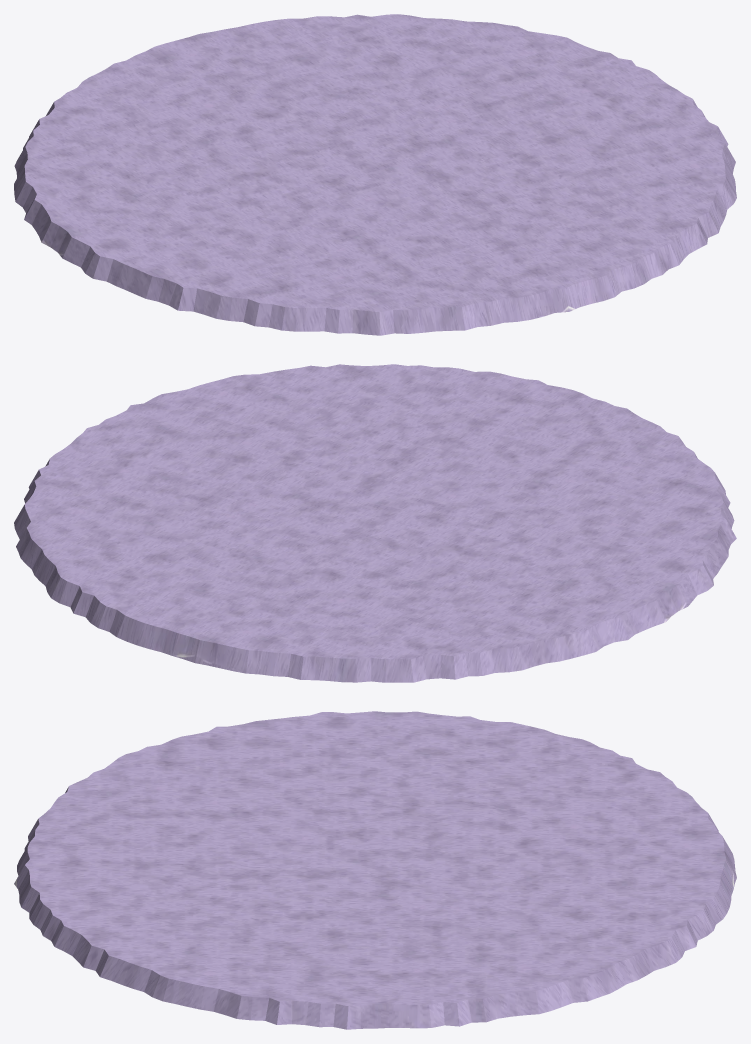
File: rug-shag-round-lilac.glb
3 views of the same model, one above another, from view 1: azimuth 30°, elevation 25°; view 2: azimuth 150°, elevation 25°; view 3: azimuth 270°, elevation 25° (orthographic).
Parts seen in each view (by area): view 1: rug-shag-round-lilac; view 2: rug-shag-round-lilac; view 3: rug-shag-round-lilac.
Boxes of the visible parts, x1,y1,x2,y2 form: rug-shag-round-lilac: (14, 14, 736, 335); rug-shag-round-lilac: (14, 364, 736, 682); rug-shag-round-lilac: (14, 711, 736, 1029).
Size of the model in its own units: 1.2 by 0.035 by 1.21.
1 material, 1 textured.
